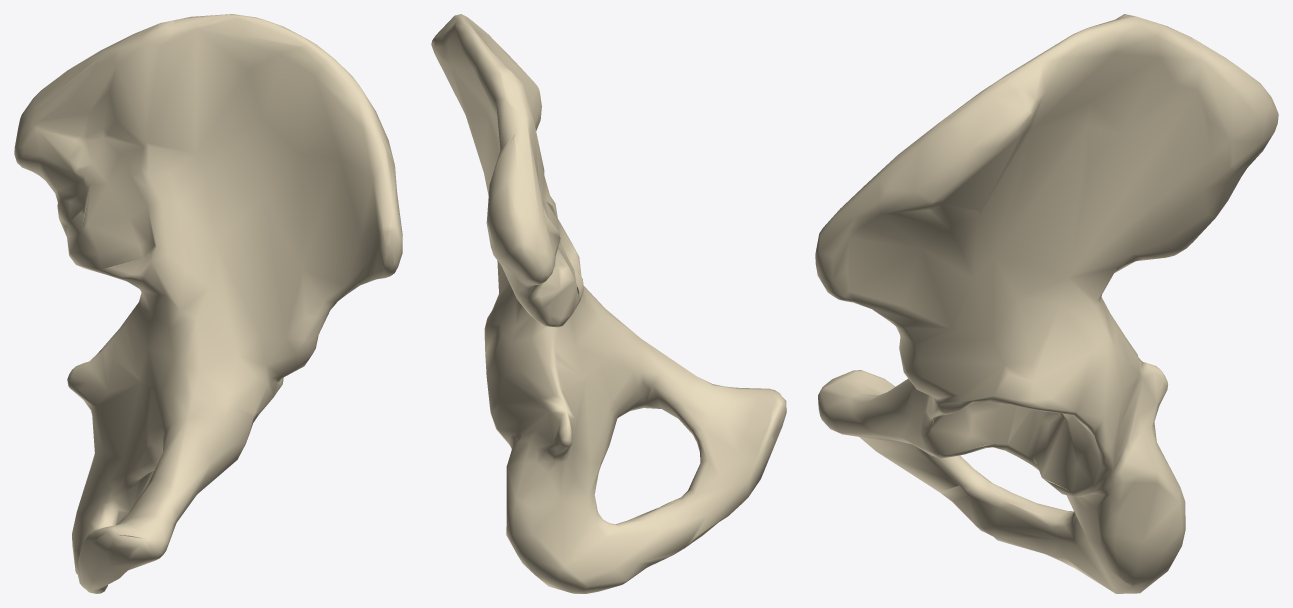
Rendered from esqueleto-hip-bone-l.glb.
The picture shows the model from 3 angles, left to right: view 1: azimuth 30°, elevation 25°; view 2: azimuth 150°, elevation 25°; view 3: azimuth 270°, elevation 25°; orthographic projection. The views are drawn at different scales.
Visible parts, largest first — view 1: Hip bone.l; view 2: Hip bone.l; view 3: Hip bone.l.
Boxes of the visible parts, left/top/right/bottom form: Hip bone.l: left=14, top=14, right=402, bottom=593; Hip bone.l: left=431, top=14, right=786, bottom=593; Hip bone.l: left=815, top=14, right=1278, bottom=593.
Bounding box in the file's own units: 0.132 × 0.2146 × 0.1429.
